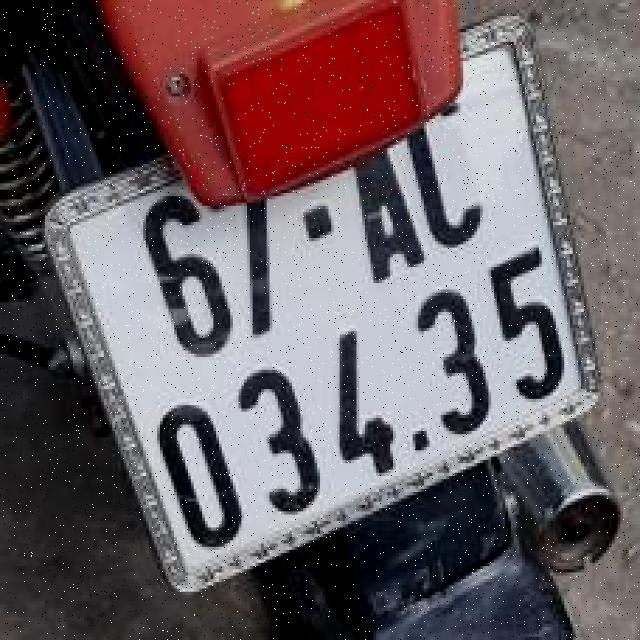0: (156, 404, 243, 554)
3: (239, 366, 320, 514), (417, 286, 490, 434)
4: (334, 320, 399, 478)
5: (491, 238, 567, 402)
6: (143, 192, 230, 356)
7: (224, 177, 308, 344)
A: (351, 135, 424, 293)
C: (407, 90, 483, 261)
